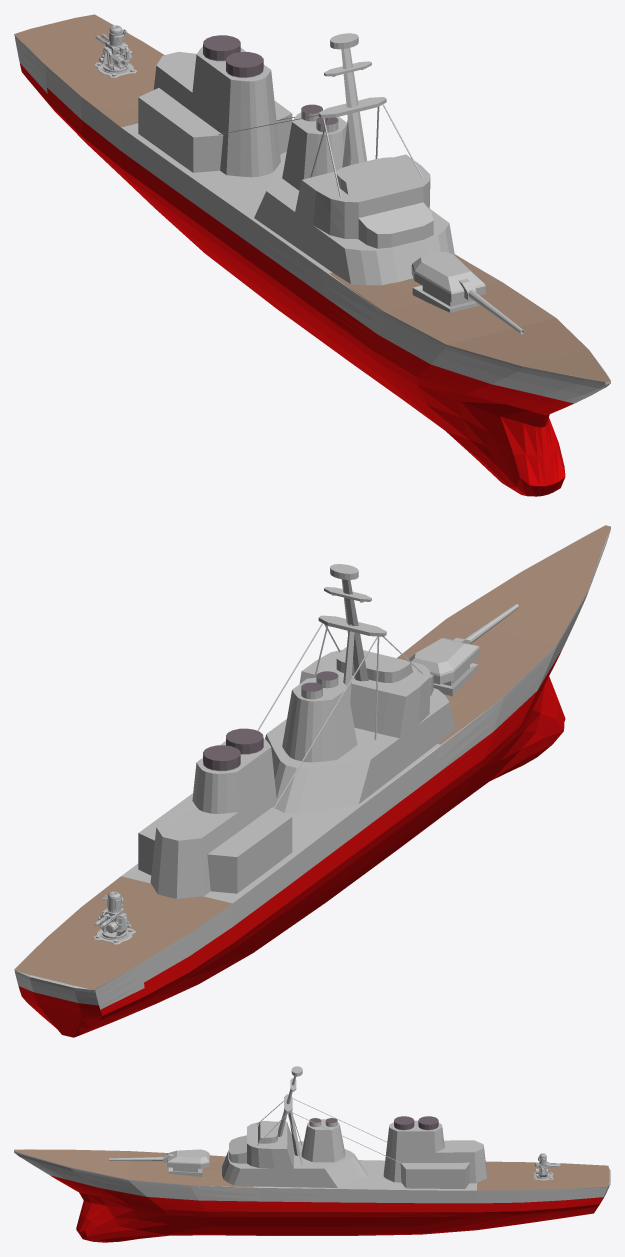
Rendered from middle_classic1.fbx.
The picture shows the model from 3 angles, top to bottom: view 1: azimuth 30°, elevation 25°; view 2: azimuth 150°, elevation 25°; view 3: azimuth 270°, elevation 25°; orthographic projection. The views are drawn at different scales.
Visible parts, largest first — view 1: middle_classic1; view 2: middle_classic1; view 3: middle_classic1.
Boxes of the visible parts, left/top/right/bottom form: middle_classic1: left=14, top=14, right=610, bottom=496; middle_classic1: left=14, top=525, right=610, bottom=1037; middle_classic1: left=14, top=1066, right=610, bottom=1242.
Size of the model in its own units: 586 by 1496 by 4741.
